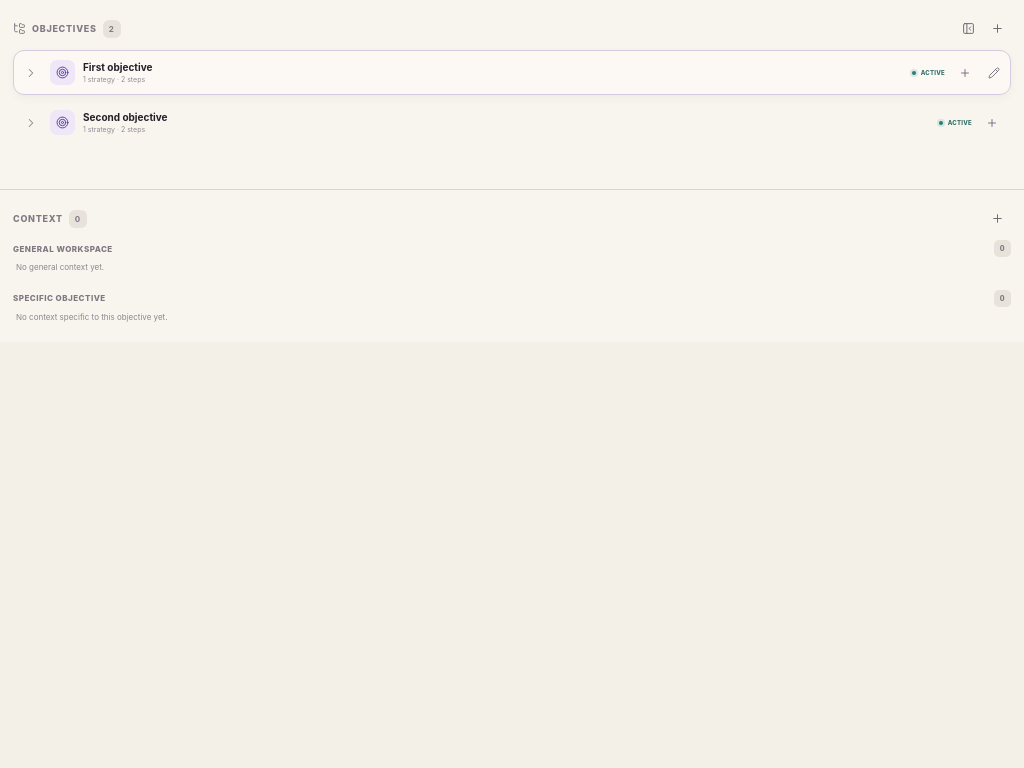
WorkspaceSidebar workspace component › closes an open preview when the sidebar becomes collapsed
Hover over the button "First objective 1 strategy · 2 steps active" at (118,67), box [46,54,949,91]
Wait 450 ms
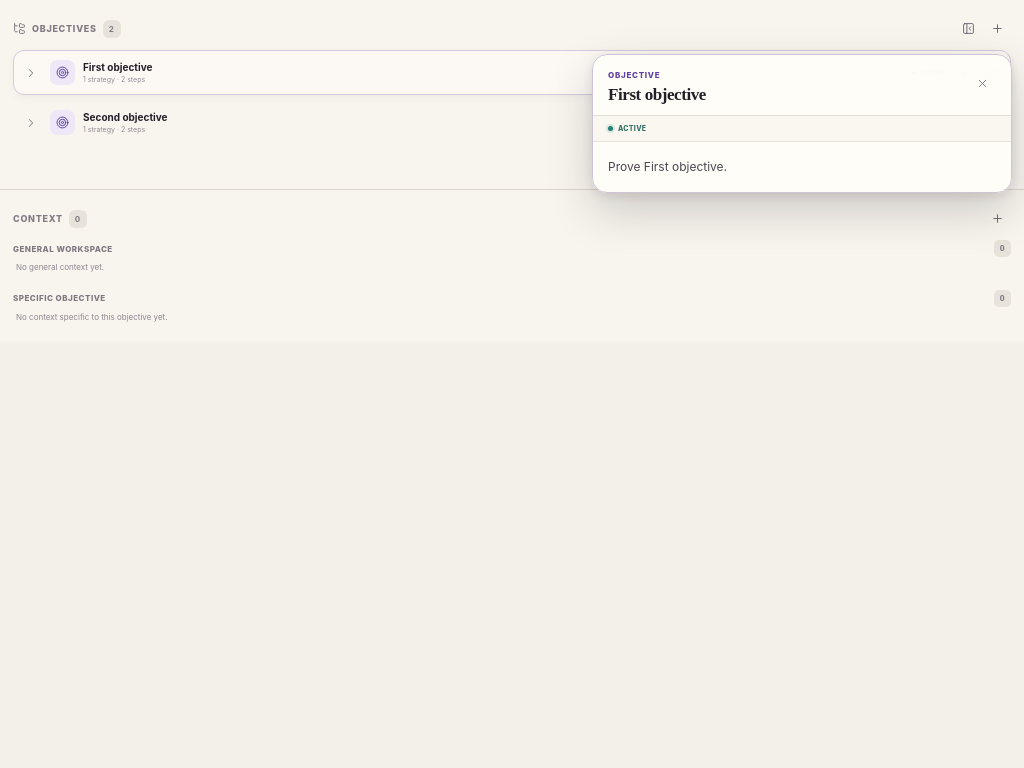
expect the dialog named "objective preview" is shown: met, box [592,54,1012,193]
